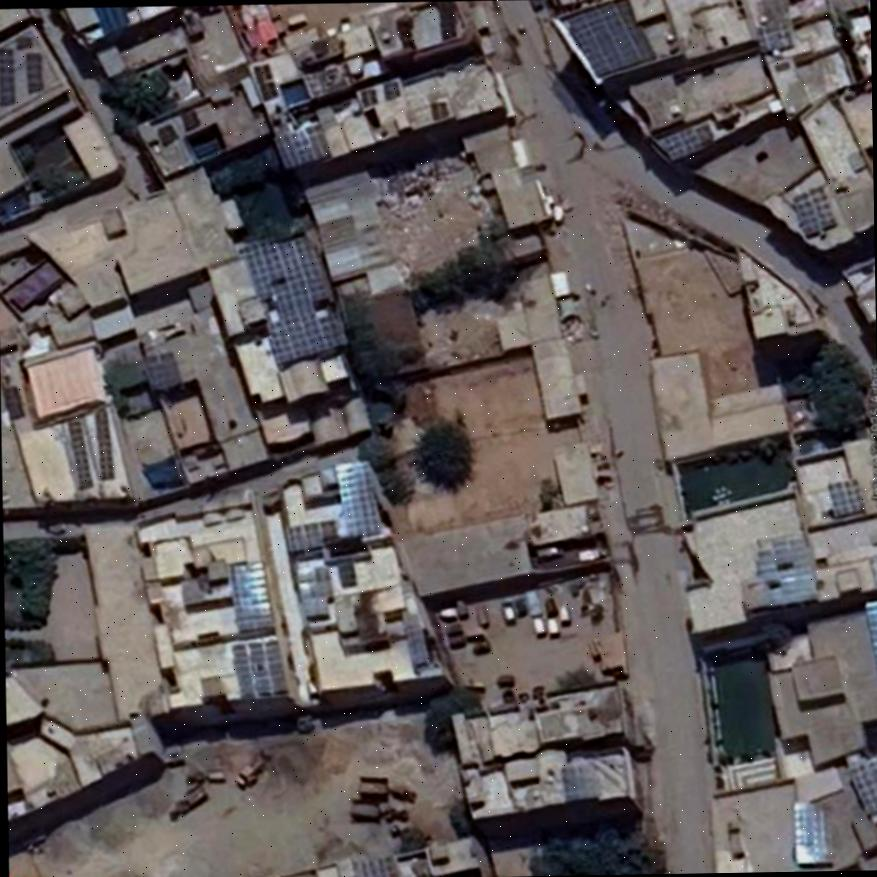Solarpanel: (243, 234, 344, 366), (562, 0, 657, 73), (331, 460, 379, 536), (231, 640, 283, 697), (274, 120, 330, 167), (232, 562, 270, 631), (792, 799, 826, 865), (792, 184, 833, 233), (845, 756, 877, 815), (661, 122, 714, 157), (67, 413, 88, 487), (828, 478, 863, 516), (284, 522, 323, 552), (865, 601, 877, 684), (96, 406, 110, 477), (253, 64, 274, 100), (0, 47, 11, 103), (26, 52, 38, 90)
